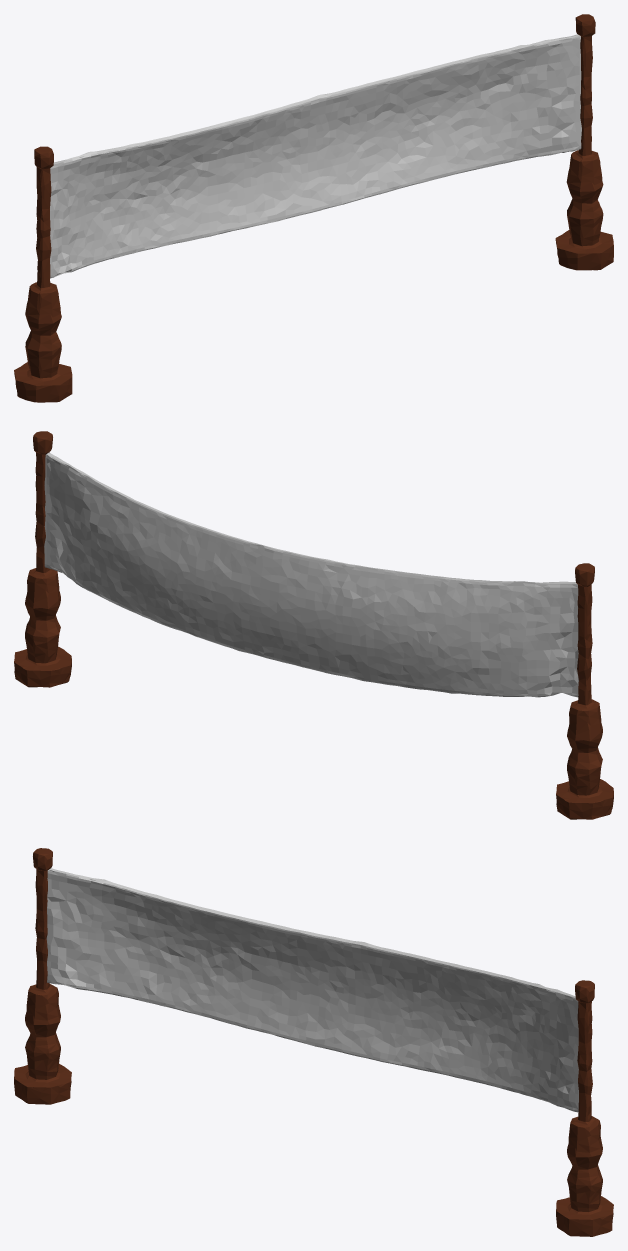
The model's file is DesertLandSnakeFlag0180.obj.
3 views of the same model, one above another, from view 1: azimuth 30°, elevation 25°; view 2: azimuth 150°, elevation 25°; view 3: azimuth 330°, elevation 25° (orthographic).
Parts seen in each view (by area): view 1: Cube.003, Cube, Cube.002; view 2: Cube.003, Cube, Cube.002; view 3: Cube.003, Cube.002, Cube.
Boxes of the visible parts, x1,y1,x2,y2 form: Cube.003: (50,34,581,278); Cube: (14,146,72,402); Cube.002: (555,14,613,270); Cube.003: (44,452,578,697); Cube: (556,563,613,819); Cube.002: (14,431,71,687); Cube.003: (46,868,578,1112); Cube.002: (556,980,613,1236); Cube: (14,848,71,1104).
Size of the model in its own units: 27.57 by 10.7 by 3.46.
